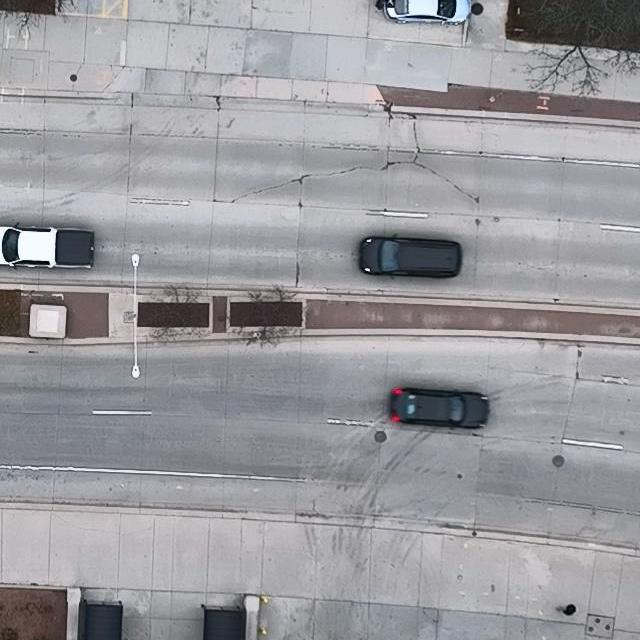car: (359, 232, 462, 280), (0, 221, 94, 269), (388, 386, 488, 429), (382, 0, 472, 26)
